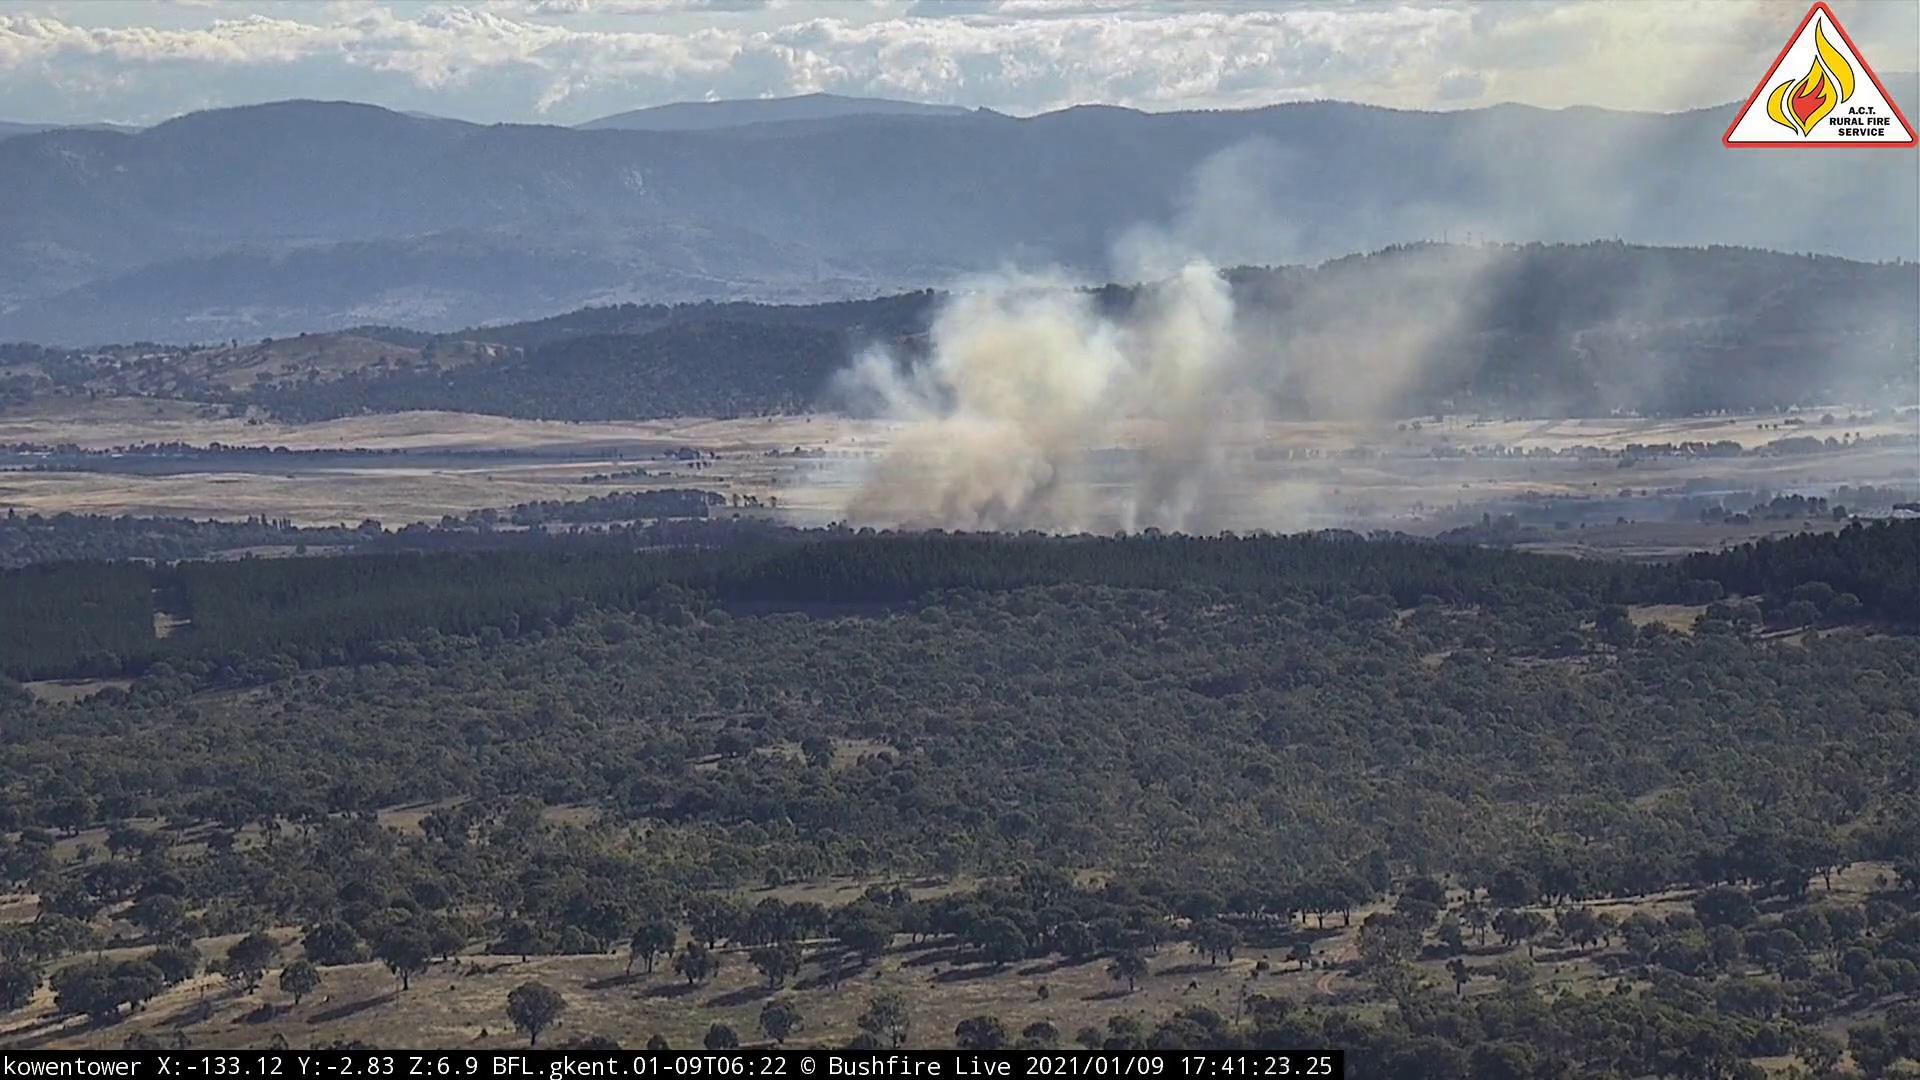Smoke: (735, 121, 1716, 546)
